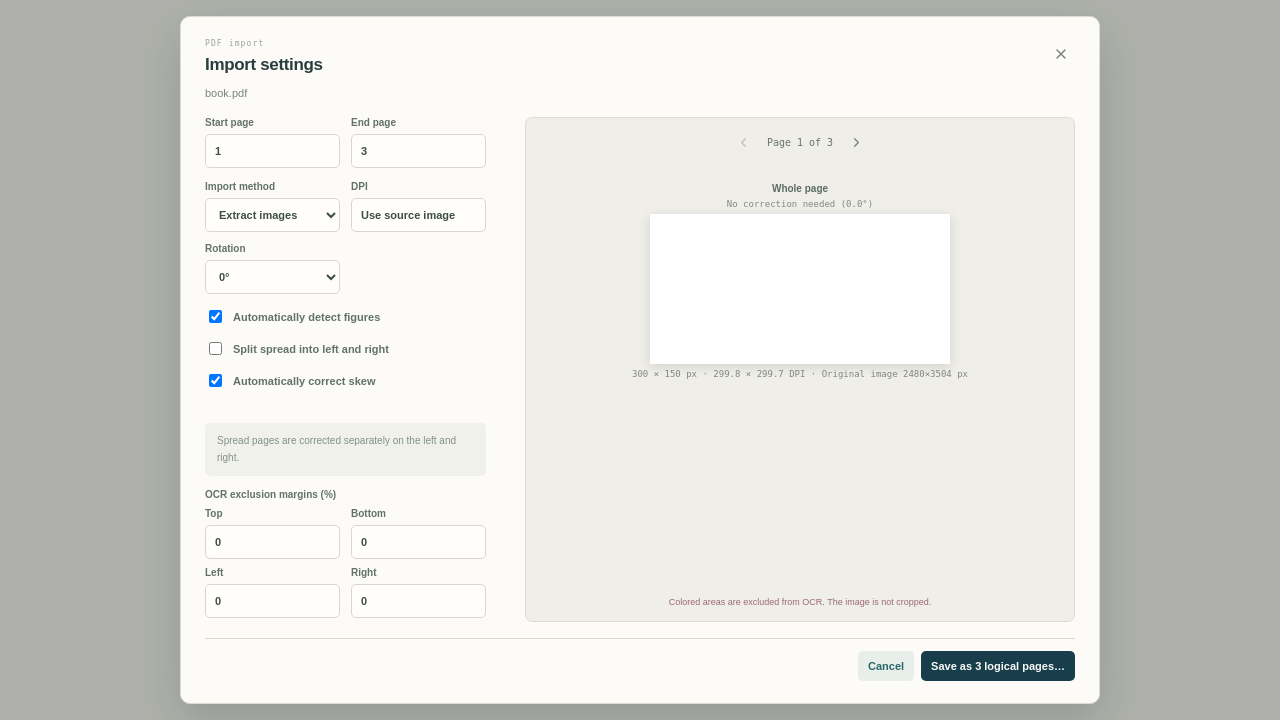
it: ImportModal validation › shows the actual aligned reason rather than a zero correction angle
expect the text with class "deskew-angle" reads "No correction needed (0.0°)": met, box [727, 199, 873, 209]
Click the checkbox labelled "Automatically correct skew" at (216,381), box [209, 374, 222, 387]
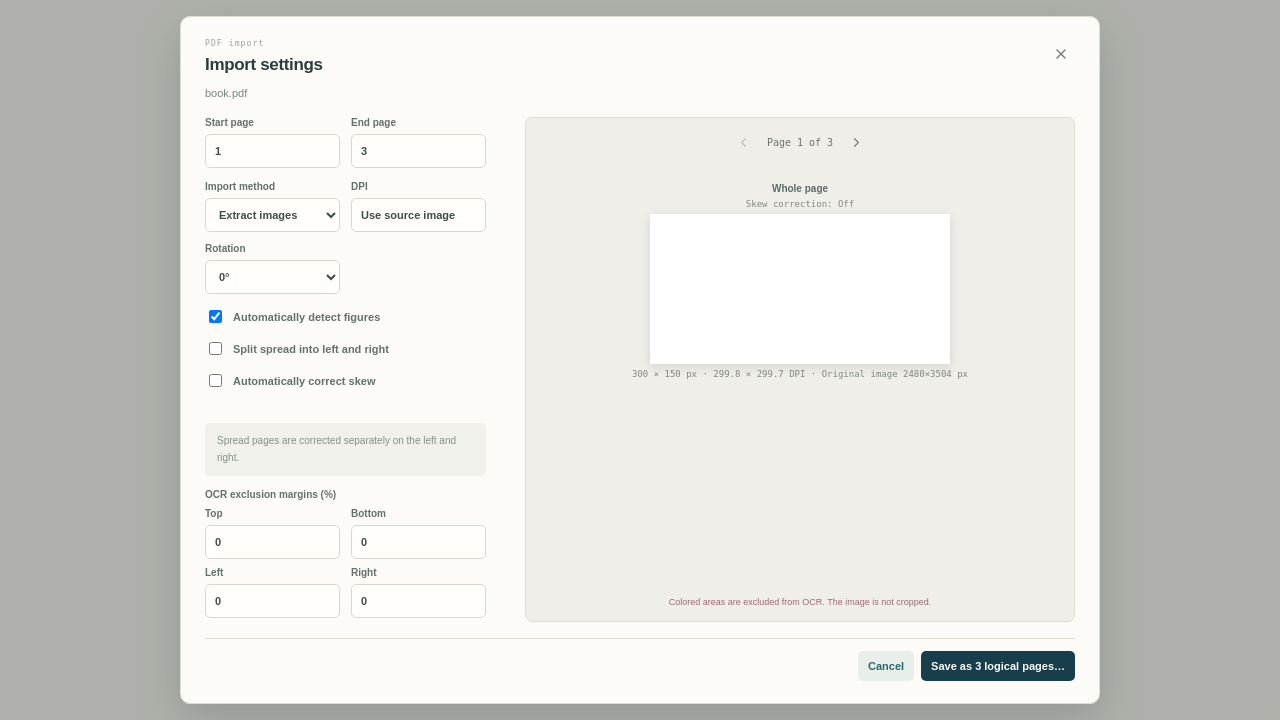
expect the text with class "deskew-angle" reads "Skew correction: Off": met, box [746, 199, 854, 209]
